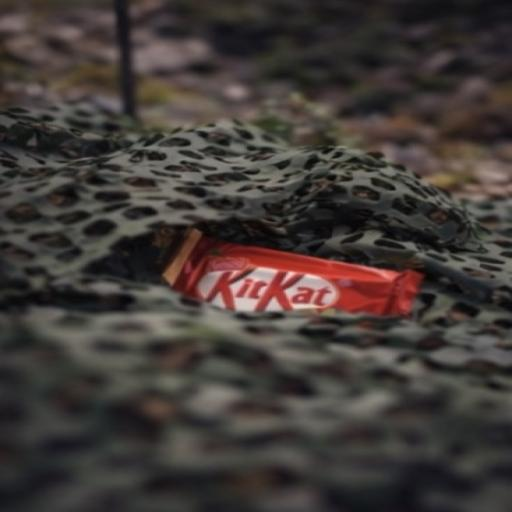kitkat: (104, 190, 486, 382)
